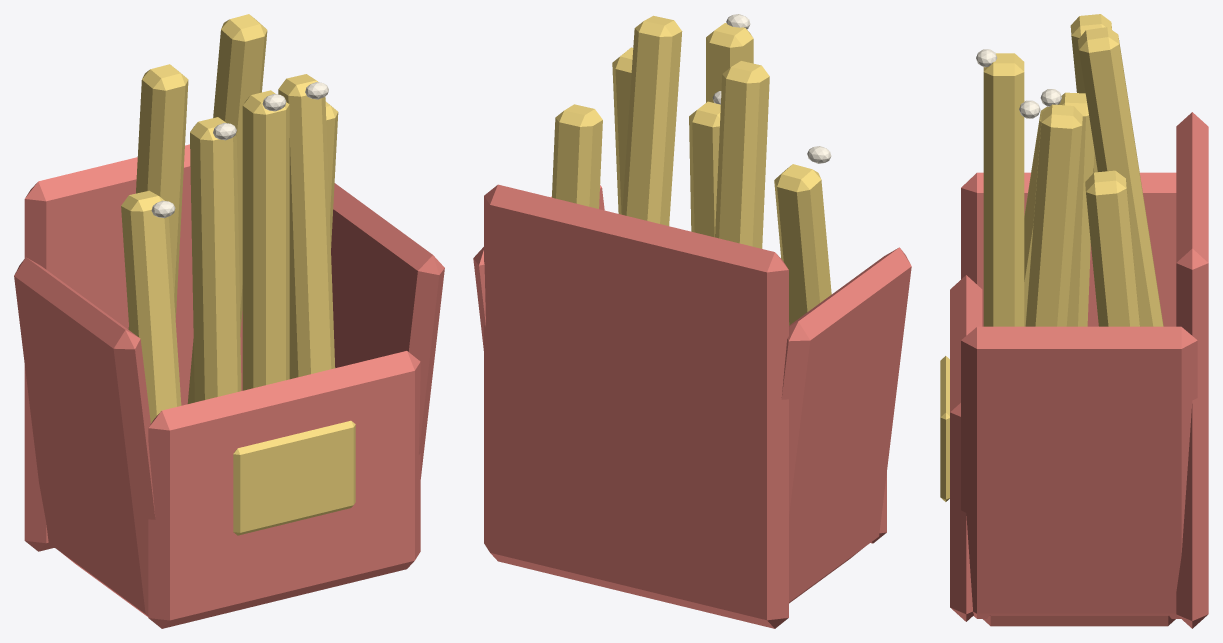
File: Fries.glb
3 views of the same model, side by side, from view 1: azimuth 30°, elevation 25°; view 2: azimuth 150°, elevation 25°; view 3: azimuth 270°, elevation 25° (orthographic). The views are drawn at different scales.
Parts seen in each view (by area): view 1: Visual; view 2: Visual; view 3: Visual.
Boxes of the visible parts, x1=… form: Visual: x1=14, y1=14, x2=444, y2=628; Visual: x1=473, y1=14, x2=911, y2=628; Visual: x1=940, y1=14, x2=1208, y2=628.
Bounding box in the file's own units: 0.3651 × 0.5641 × 0.249.
